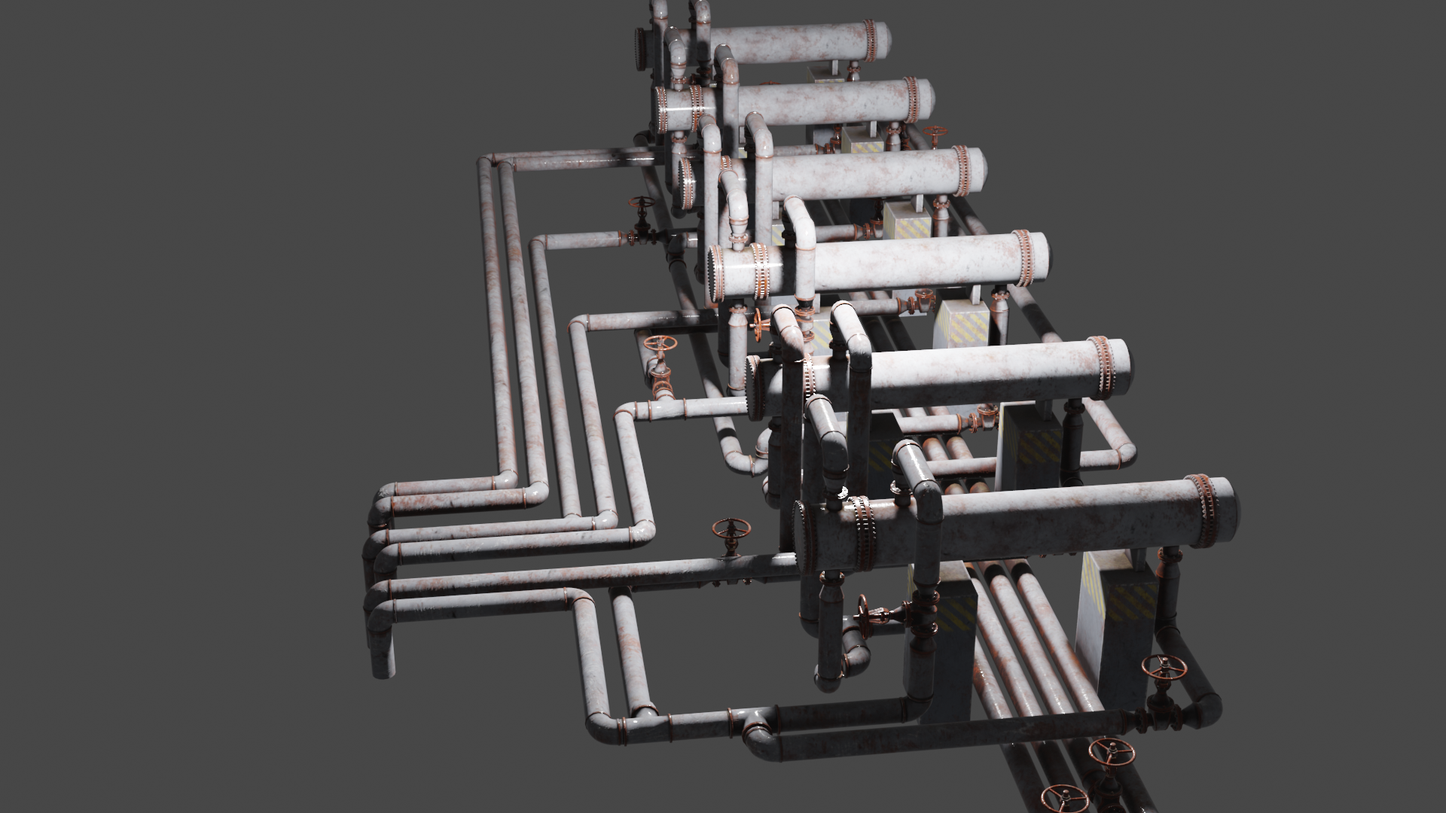HE_1: (641, 22, 892, 67)
HE_2: (652, 77, 937, 132)
HE_3: (680, 145, 991, 210)
HE_4: (707, 233, 1051, 300)
HE_5: (745, 334, 1135, 419)
HE_6: (795, 472, 1241, 577)
